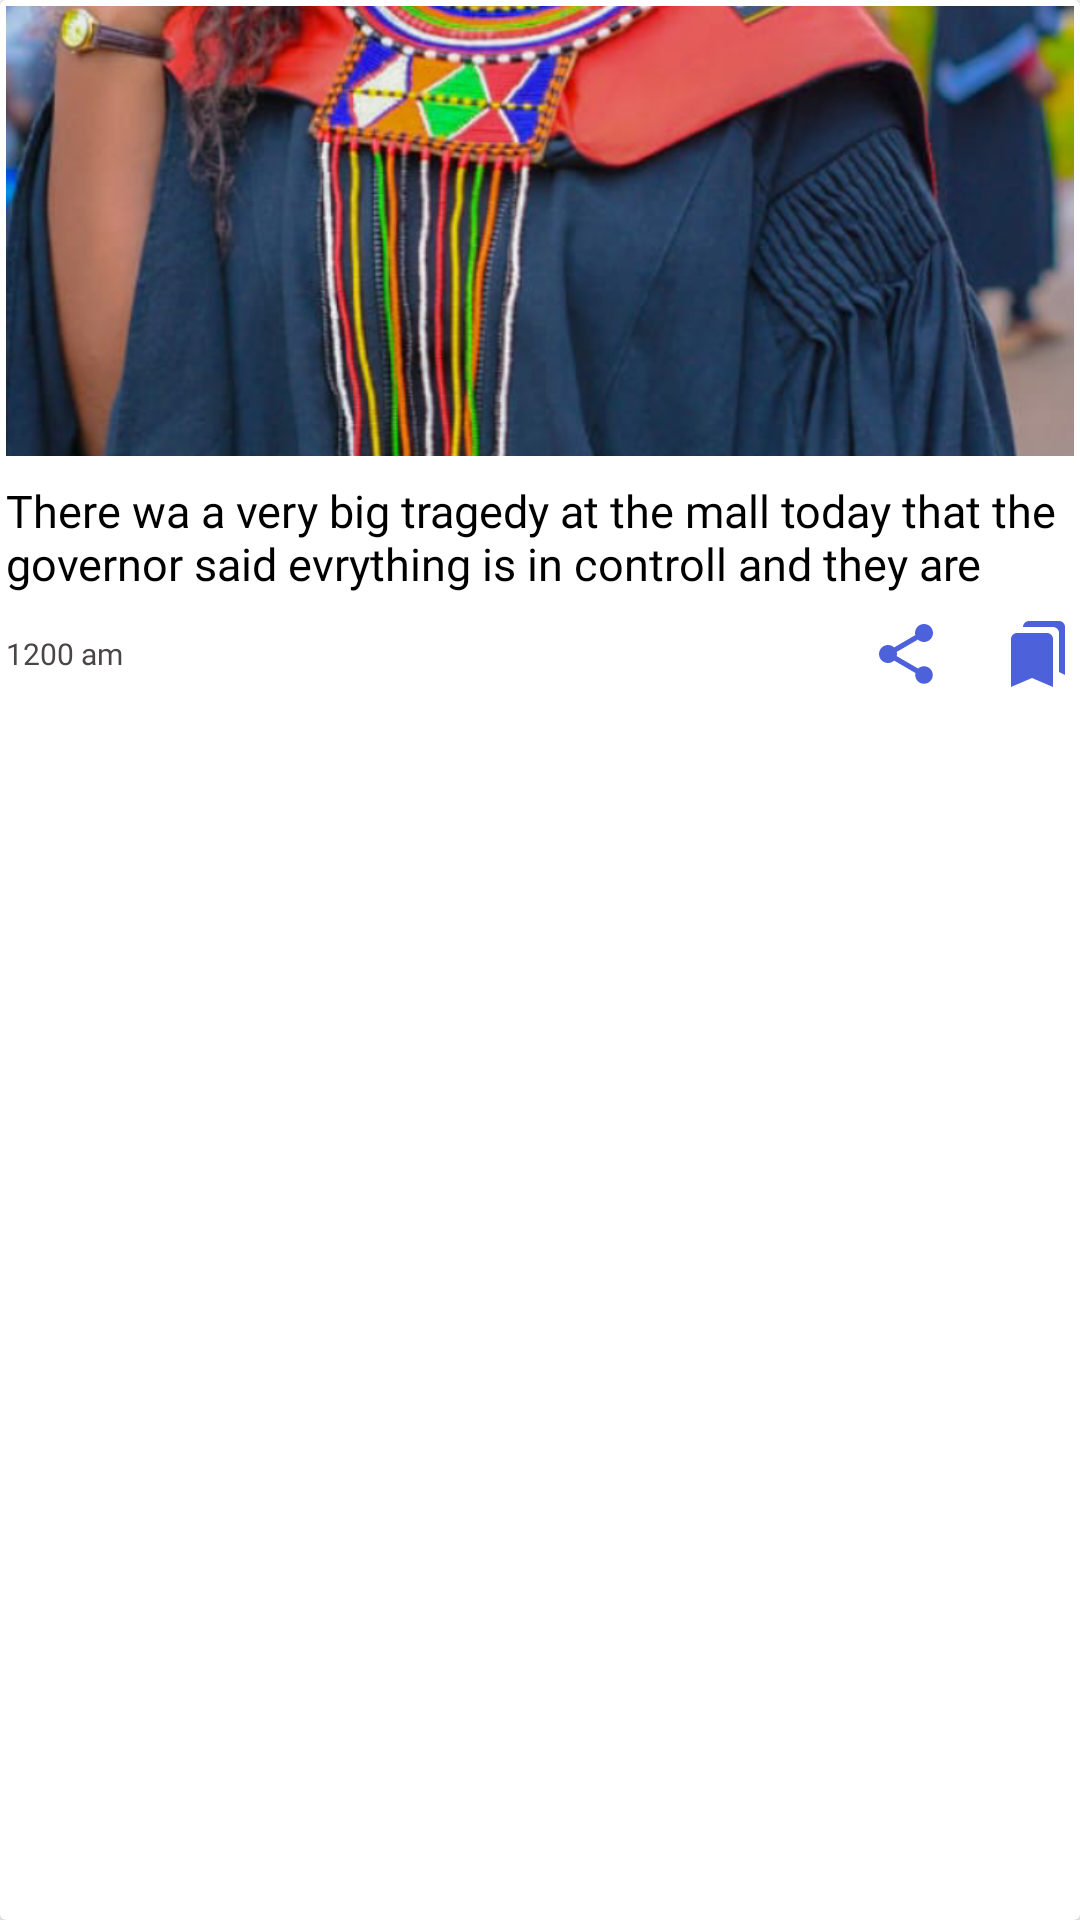

Icon bounding boxes for this 1080 x 1920 phone screenshot, format BBox(x1, y1, x2, y2):
bookmark: BBox(1011, 621, 1065, 687)
share: BBox(879, 624, 933, 684)
